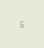six: (19, 20, 23, 28)
